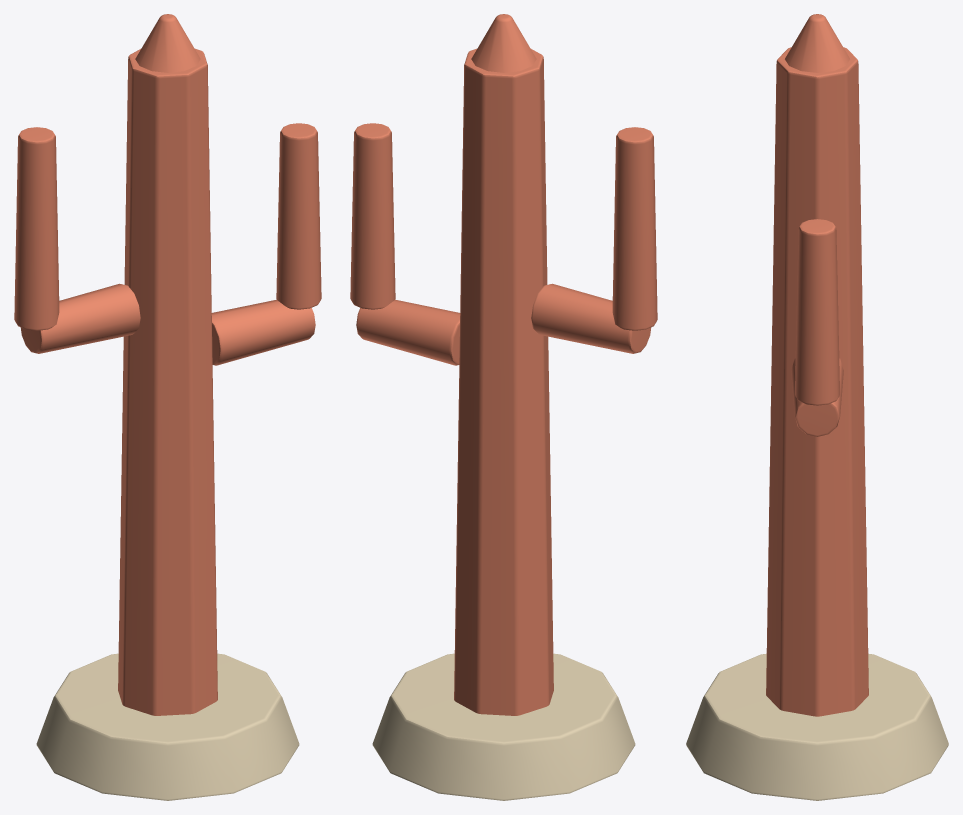
Rendered from cactus.glb.
The picture shows the model from 3 angles, left to right: view 1: azimuth 30°, elevation 25°; view 2: azimuth 150°, elevation 25°; view 3: azimuth 270°, elevation 25°; orthographic projection.
Visible parts, largest first — view 1: cactus; view 2: cactus; view 3: cactus.
Part boxes in pixels (bbox=[...]): cactus: bbox=[14, 14, 321, 800]; cactus: bbox=[350, 14, 657, 800]; cactus: bbox=[686, 14, 948, 800].
Size of the model in its own units: 0.9197 by 2.13 by 0.6949.
